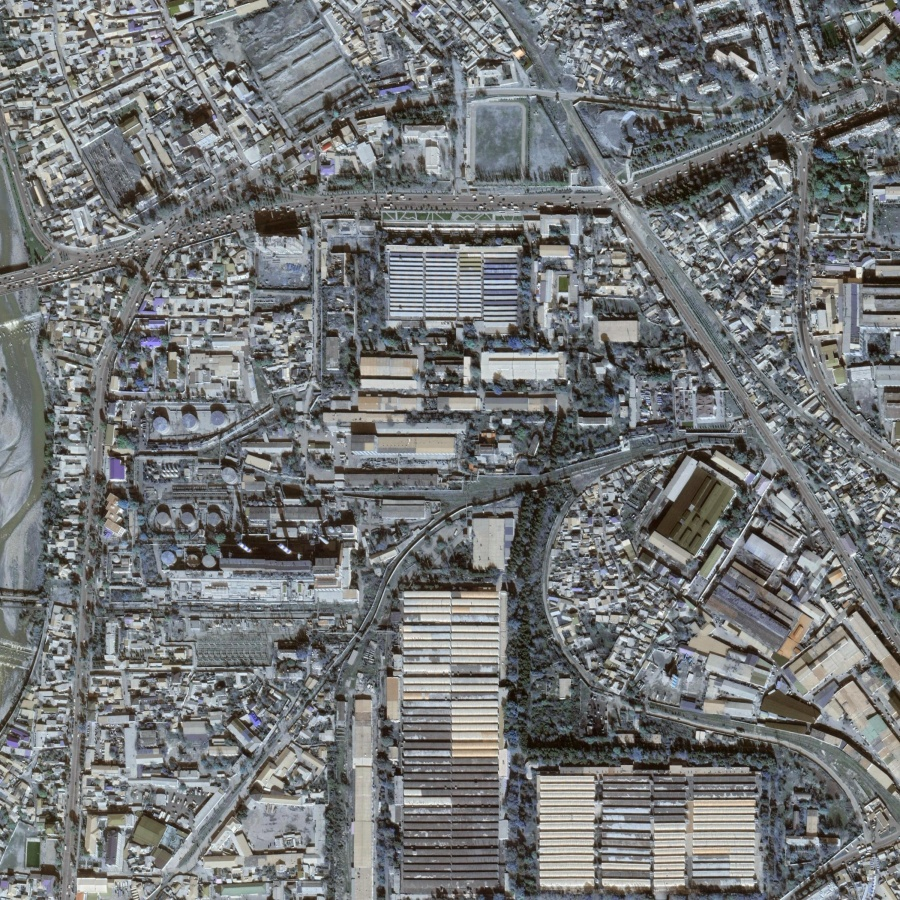PowerPlant: (143, 457, 364, 668)
